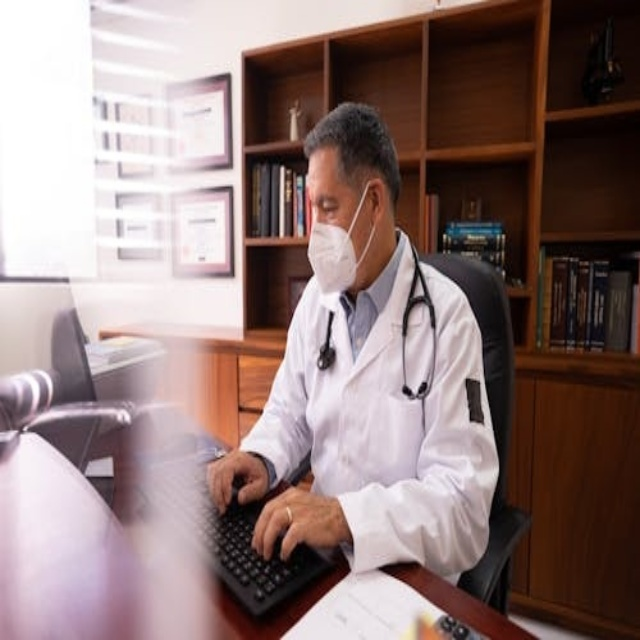Mascara: (308, 183, 375, 293)
Sin_gafas: (302, 185, 344, 217)
Sin_guantes: (248, 475, 344, 567), (206, 447, 270, 515)
